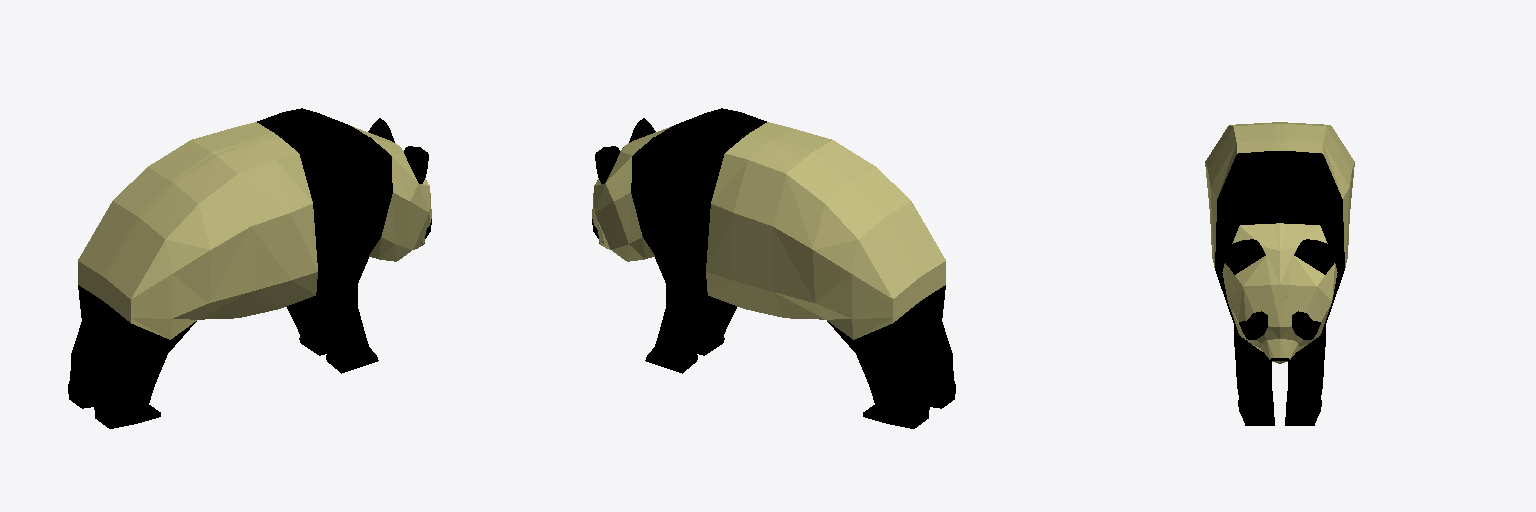
File: panda.obj
The picture shows the model from 3 angles: view 1: azimuth 30°, elevation 25°; view 2: azimuth 150°, elevation 25°; view 3: azimuth 270°, elevation 25°; orthographic projection.
Visible parts, largest first — view 1: panda; view 2: panda; view 3: panda.
Boxes of the visible parts, box(x1,y1,x2,y2) form: panda: box(68, 108, 431, 428); panda: box(592, 108, 955, 428); panda: box(1205, 122, 1354, 425).
Size of the model in its own units: 4.43 by 3.01 by 1.71.